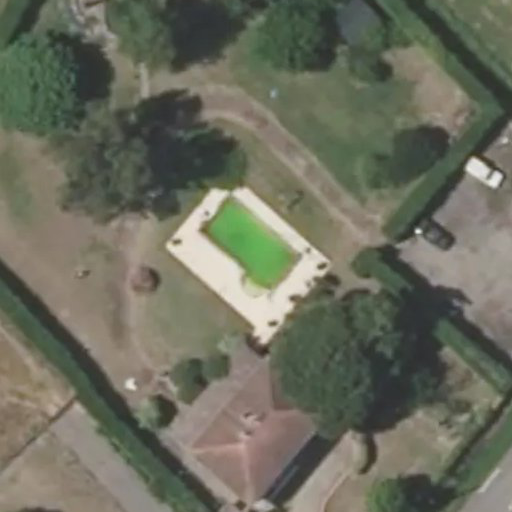pool: (197, 237, 305, 254)
